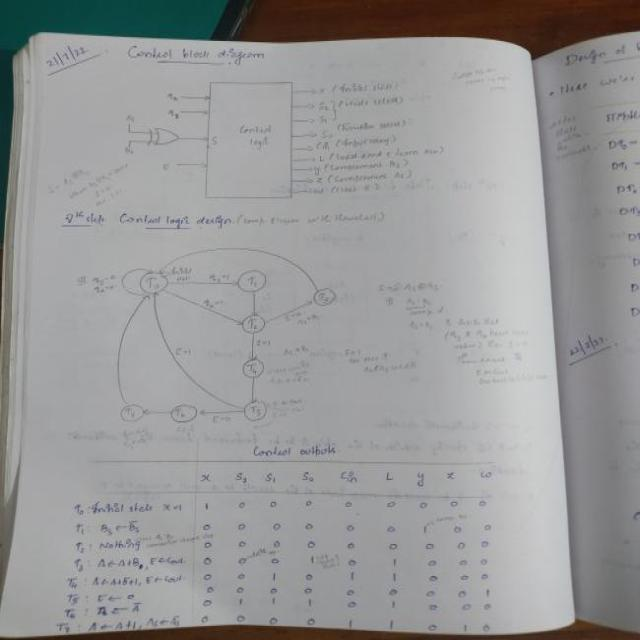Figure Detection - v3 Dataset Version2: (71, 234, 366, 435), (104, 65, 448, 204)
